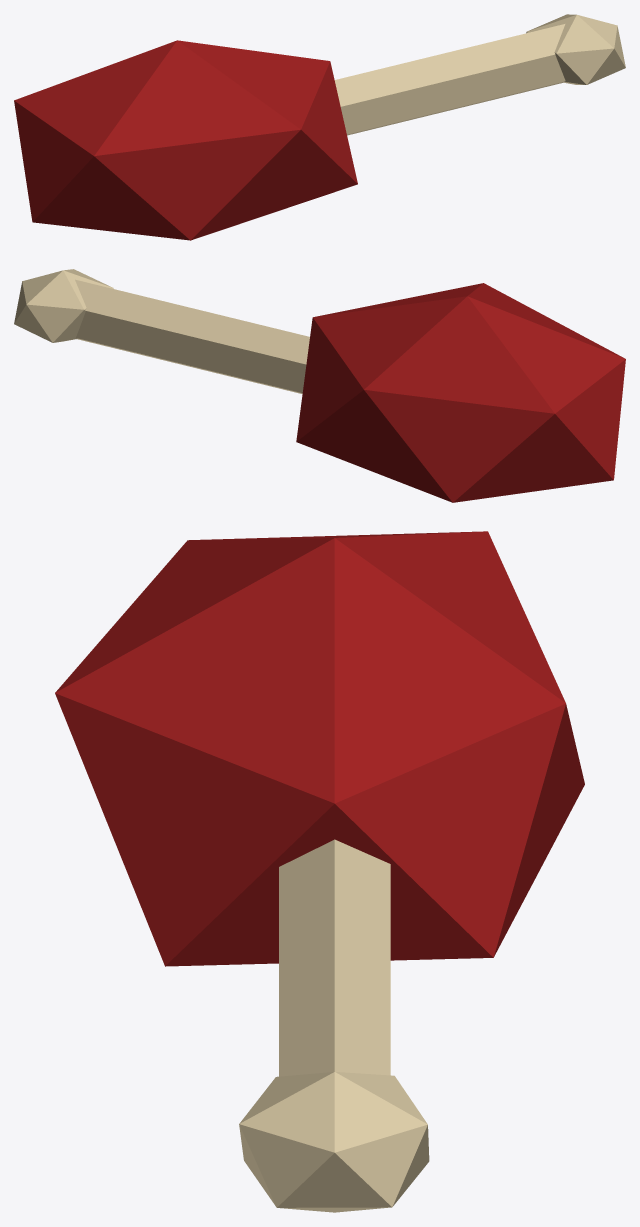
File: raw_meat.obj
The picture shows the model from 3 angles, top to bottom: view 1: azimuth 30°, elevation 25°; view 2: azimuth 150°, elevation 25°; view 3: azimuth 270°, elevation 25°; orthographic projection. The views are drawn at different scales.
Parts seen in each view (by area): view 1: Flesh, Bone; view 2: Flesh, Bone; view 3: Flesh, Bone.
Part boxes in pixels (x1=…): Flesh: x1=14, y1=40, x2=357, y2=240; Bone: x1=334, y1=14, x2=625, y2=135; Flesh: x1=296, y1=283, x2=625, y2=502; Bone: x1=14, y1=269, x2=309, y2=393; Flesh: x1=55, y1=531, x2=584, y2=966; Bone: x1=239, y1=839, x2=429, y2=1212.
Size of the model in its own units: 2.09 by 0.5016 by 0.8215.
